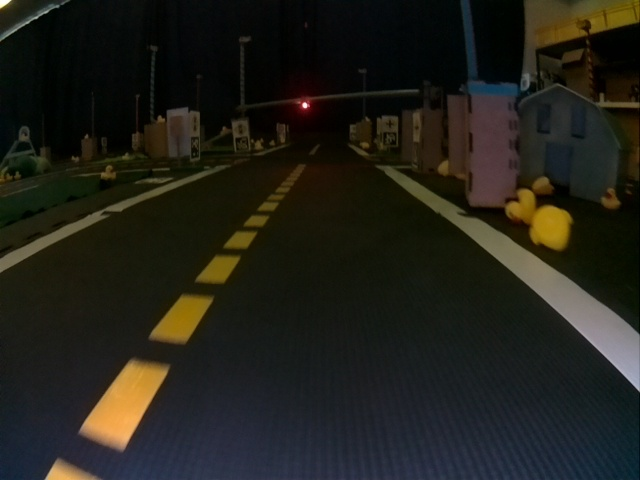Duckie: (530, 206, 569, 249), (508, 192, 535, 223), (601, 189, 619, 207), (534, 179, 553, 194), (101, 169, 116, 180), (438, 159, 448, 175)
Intersection sign: (382, 116, 397, 131)
QR code: (137, 177, 172, 185), (236, 136, 250, 151), (190, 137, 199, 160), (384, 132, 397, 146)
Signal sign: (233, 122, 249, 136), (191, 113, 200, 135)
